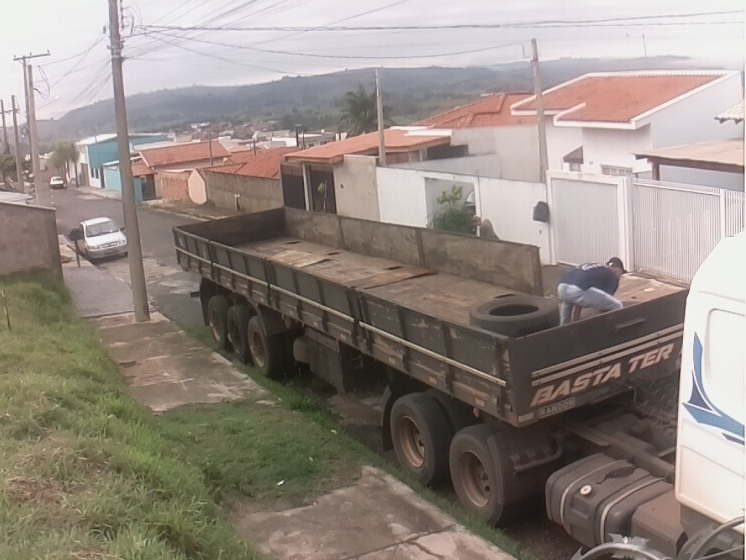person: (555, 256, 628, 327), (469, 215, 499, 244)
